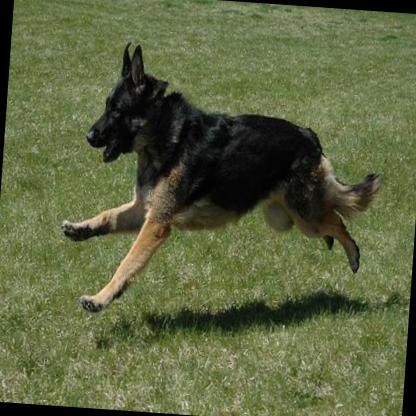German_shepherd: (55, 38, 388, 328)
